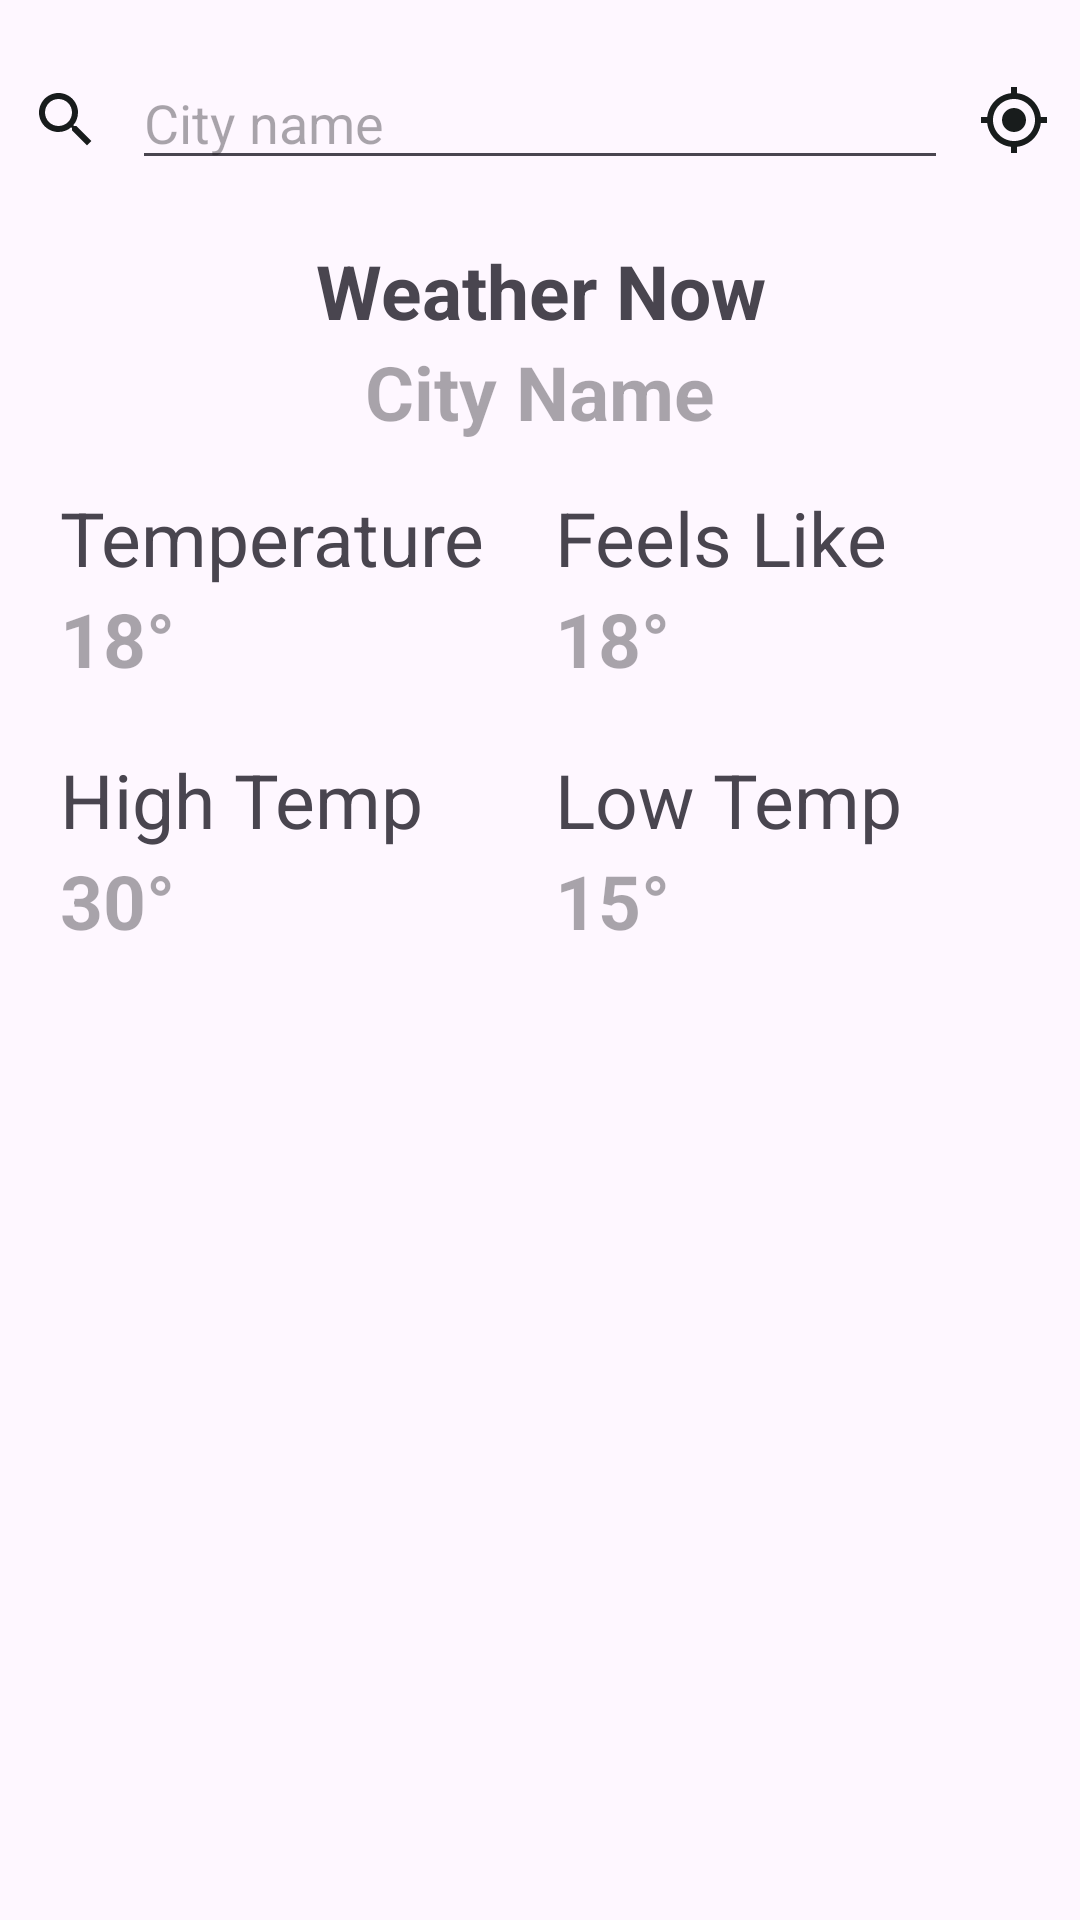

Where icons sit on this 1080 × 1920 app screen, as (x1, y1, x2, y2):
location: (981, 87, 1047, 153)
search: (39, 93, 91, 145)
